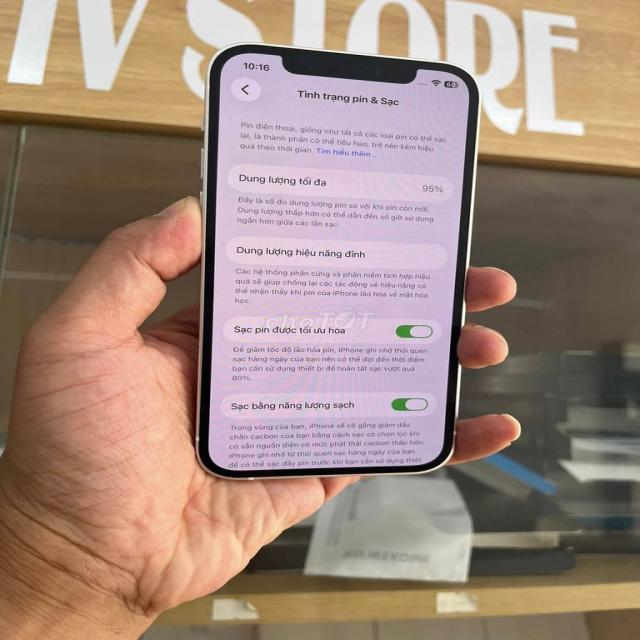gen_12_13: (186, 43, 486, 492)
